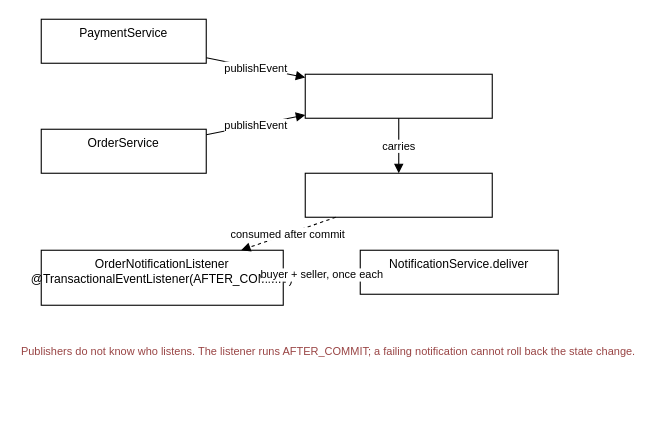
This 653x424 diagram has some shape labels left out. The centre of each missing label's shape, as x and y in pixels:
"ApplicationEventPublisher" belongs at [398,95].
"OrderStateChangedEvent (record)" belongs at [398,194].
